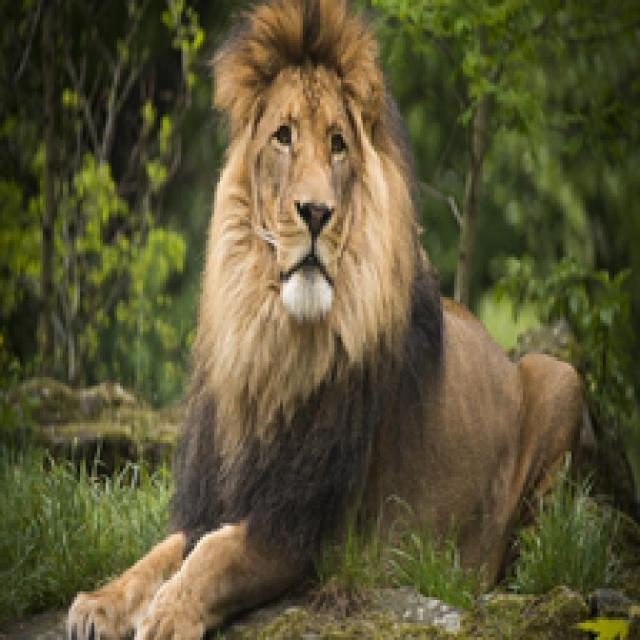lion: (102, 0, 618, 586)
